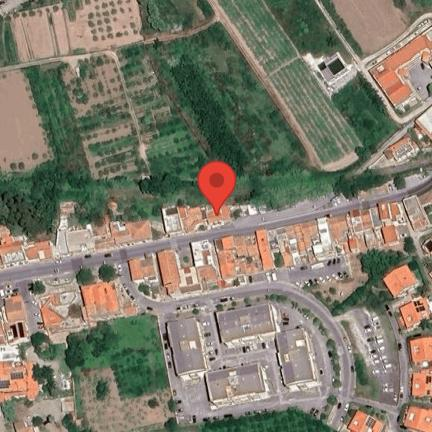area_open: (200, 314, 278, 395), (347, 312, 399, 399), (178, 376, 207, 418), (297, 270, 357, 287), (282, 302, 301, 330)
built: (158, 202, 406, 301), (0, 201, 155, 271), (39, 278, 139, 336), (367, 25, 432, 113), (161, 202, 267, 240), (273, 325, 321, 397), (205, 362, 271, 408), (168, 316, 206, 381), (218, 304, 276, 346), (0, 358, 39, 404), (0, 295, 31, 348), (381, 132, 423, 168), (398, 295, 432, 335), (404, 187, 432, 232), (382, 266, 415, 301), (318, 53, 350, 86), (59, 386, 81, 426), (349, 409, 384, 432), (131, 253, 158, 282), (409, 333, 432, 367), (409, 368, 432, 401), (404, 406, 432, 432), (415, 104, 432, 139), (8, 415, 39, 432)
vegetation_high: (138, 51, 252, 196), (7, 161, 75, 232), (332, 251, 403, 314), (154, 312, 170, 408), (58, 330, 88, 366), (70, 261, 114, 285), (81, 324, 112, 353)
vegetation_low: (0, 0, 432, 237), (6, 314, 338, 432), (269, 294, 342, 402), (311, 275, 357, 312), (421, 231, 432, 276)
